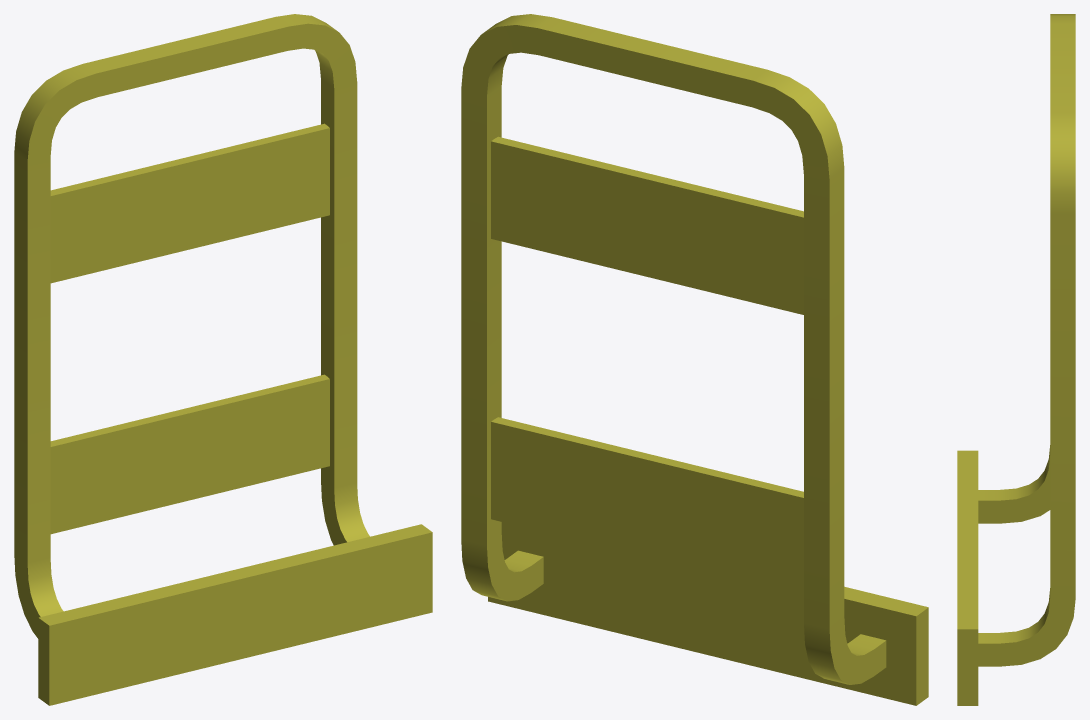
File: Railings_A_1m.FBX
The picture shows the model from 3 angles, left to right: view 1: azimuth 30°, elevation 25°; view 2: azimuth 150°, elevation 25°; view 3: azimuth 270°, elevation 25°; orthographic projection. The views are drawn at different scales.
Visible parts, largest first — view 1: Railings_A_1m; view 2: Railings_A_1m; view 3: Railings_A_1m.
Part boxes in pixels (<box>): Railings_A_1m: <box>14,14,432,705</box>; Railings_A_1m: <box>461,14,928,705</box>; Railings_A_1m: <box>957,14,1075,705</box>.
Size of the model in its own units: 100 by 143 by 28.
